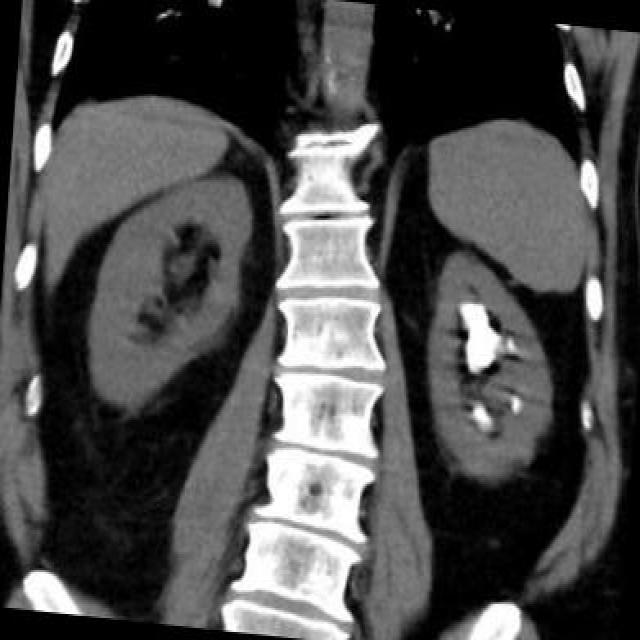Tas_Var: (454, 298, 504, 380), (508, 391, 523, 419), (471, 403, 490, 425), (503, 335, 518, 357)
